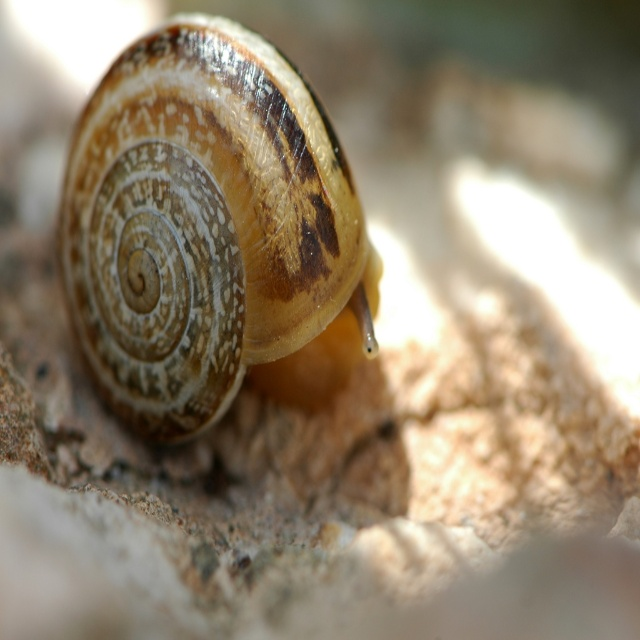Snail: (48, 7, 381, 455)
